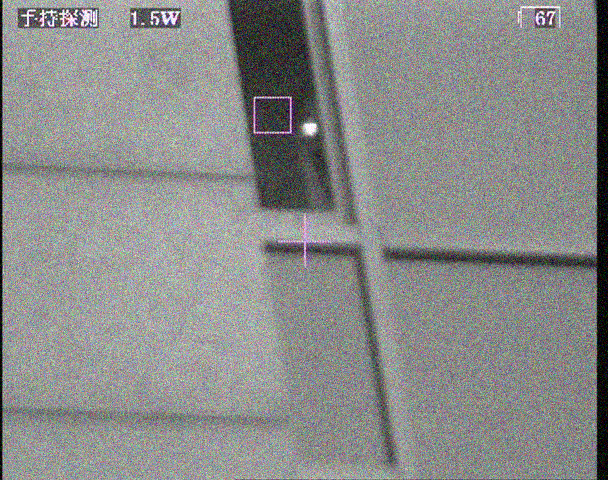my: (302, 121, 318, 136)
